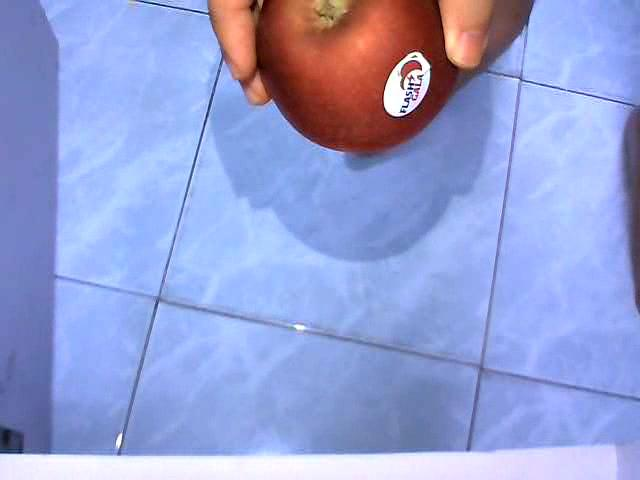apple: (254, 0, 467, 154)
